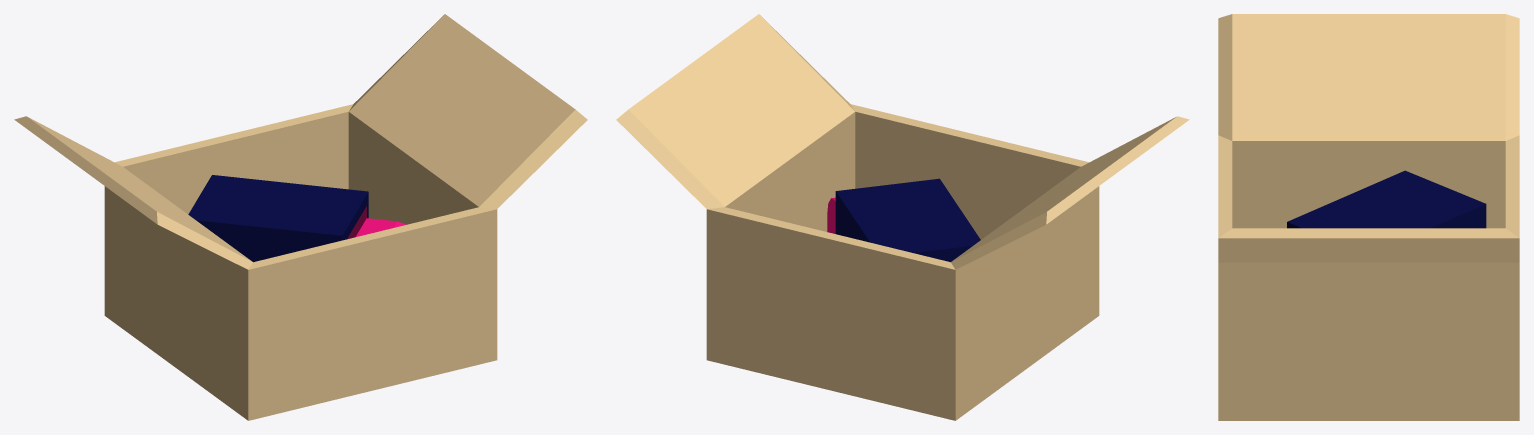
File: BoxedToyTruck.fbx
3 renders of one model, left to right at view 1: azimuth 30°, elevation 25°; view 2: azimuth 150°, elevation 25°; view 3: azimuth 270°, elevation 25°, orthographic. The views are drawn at different scales.
Visible parts, largest first — view 1: CardboardBox, Truck.001; view 2: CardboardBox, Truck.001; view 3: CardboardBox, Truck.001.
Boxes of the visible parts, left/top/right/bottom form: CardboardBox: left=14, top=14, right=587, bottom=420; Truck.001: left=188, top=175, right=406, bottom=262; CardboardBox: left=616, top=14, right=1189, bottom=420; Truck.001: left=827, top=178, right=980, bottom=262; CardboardBox: left=1218, top=14, right=1519, bottom=420; Truck.001: left=1287, top=170, right=1486, bottom=228.
Size of the model in its own units: 68.97 by 34.51 by 39.9.
